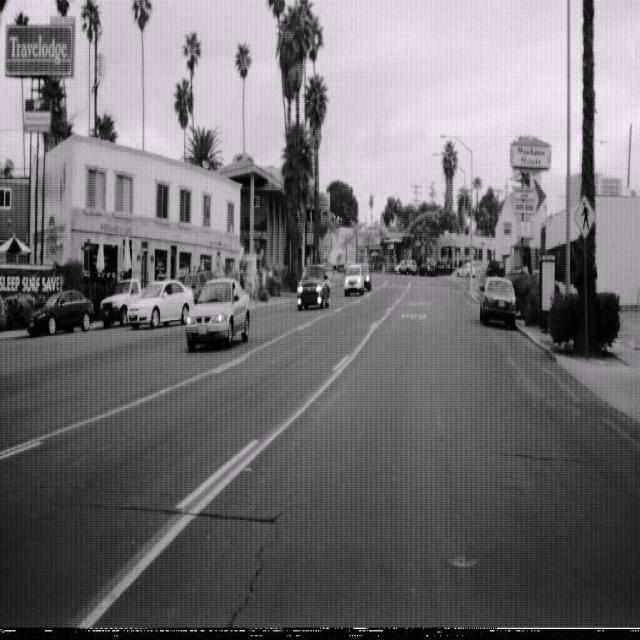pedestrianCrossing: (573, 192, 596, 240)
